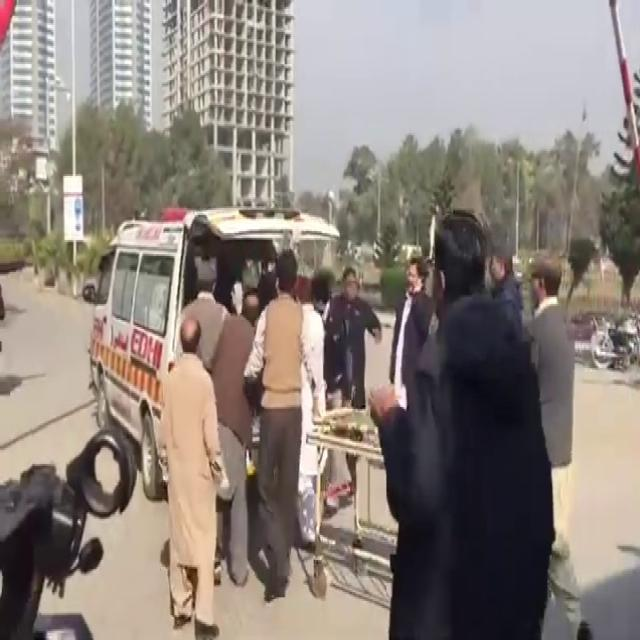ambulance: (85, 202, 289, 481)
